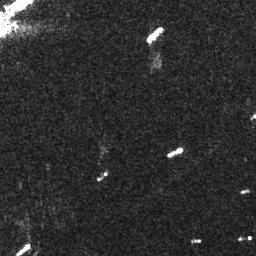ship: (146, 25, 164, 45), (14, 242, 31, 256), (167, 146, 184, 159), (191, 237, 202, 244), (241, 188, 250, 196)
